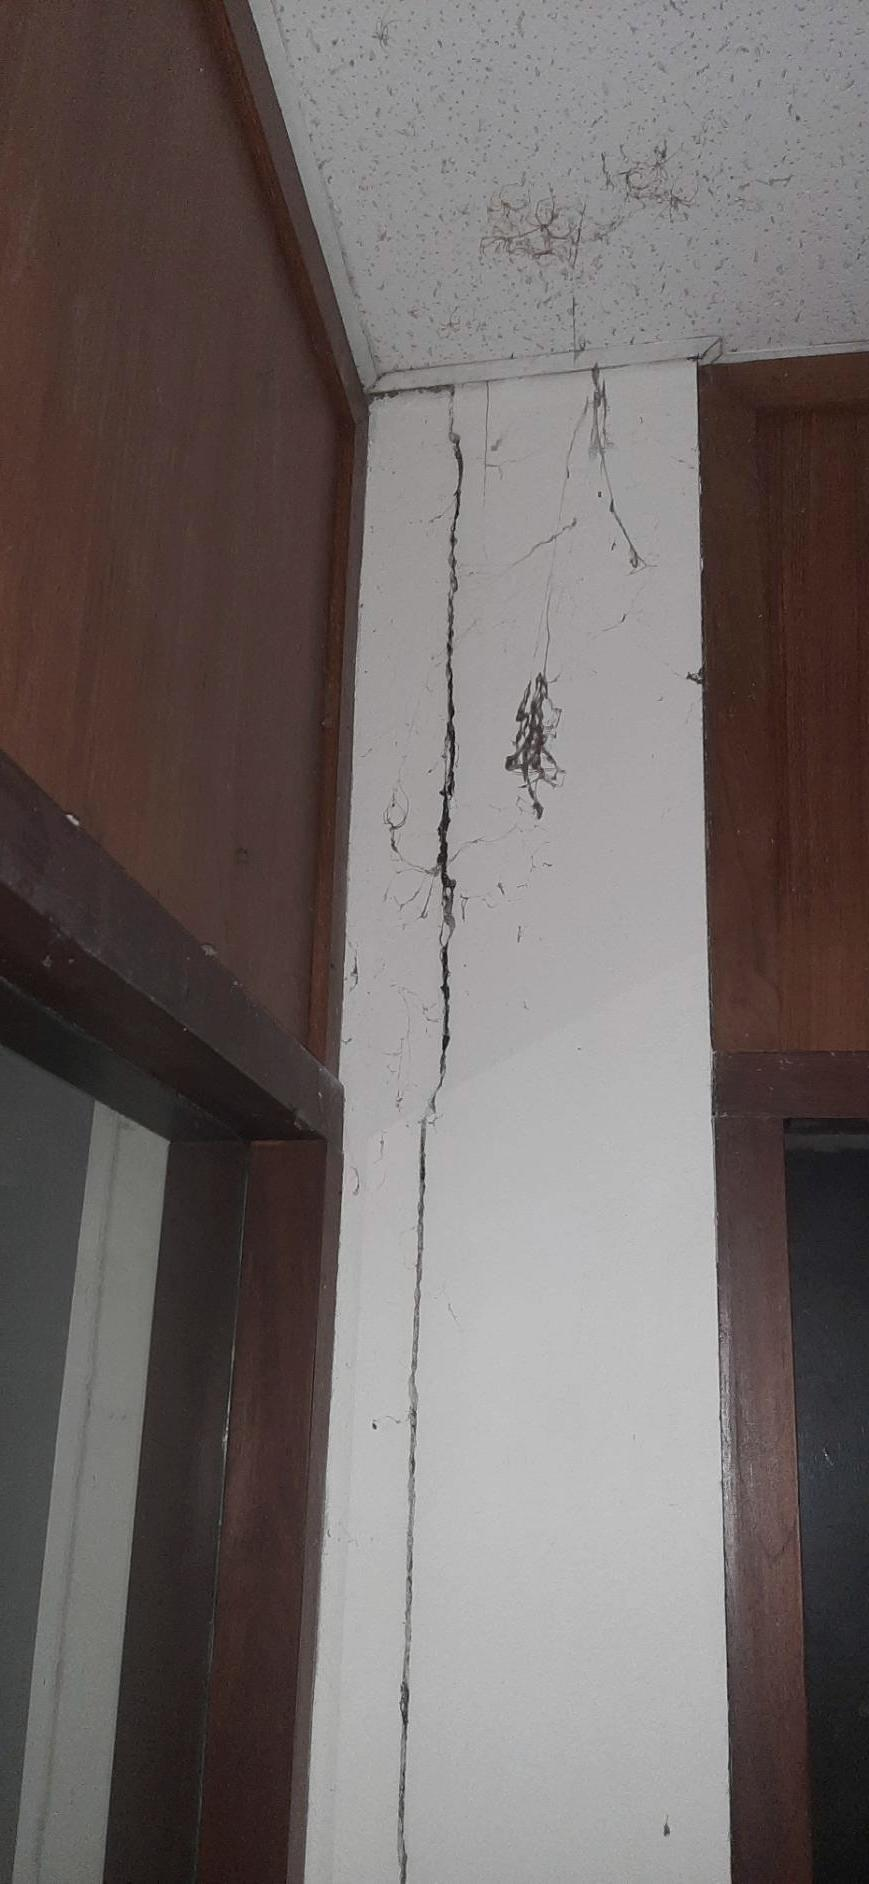High: (382, 377, 517, 1882)
